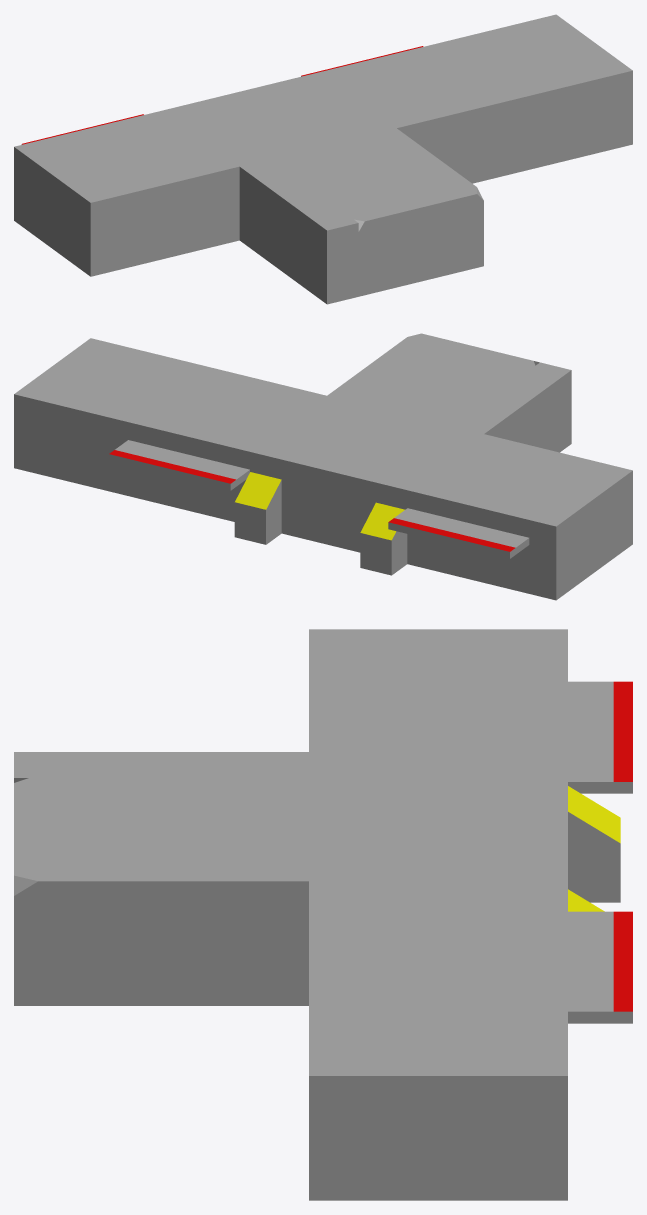
Rendered from Tutorial_Platform.fbx.
3 views of the same model, one above another, from view 1: azimuth 30°, elevation 25°; view 2: azimuth 150°, elevation 25°; view 3: azimuth 270°, elevation 25° (orthographic). The views are drawn at different scales.
Visible parts, largest first — view 1: Tutorial_Platform; view 2: Tutorial_Platform, Step_1, Step_2; view 3: Tutorial_Platform, Step_2, Step_1.
Part boxes in pixels (left/top/right/bottom): Tutorial_Platform: left=14, top=14, right=632, bottom=304; Tutorial_Platform: left=14, top=333, right=632, bottom=600; Step_1: left=388, top=508, right=529, bottom=558; Step_2: left=109, top=440, right=249, bottom=490; Tutorial_Platform: left=14, top=629, right=620, bottom=1200; Step_2: left=568, top=911, right=632, bottom=1023; Step_1: left=568, top=681, right=632, bottom=793.
Bounding box in the file's own units: 1722 × 224 × 1009.
